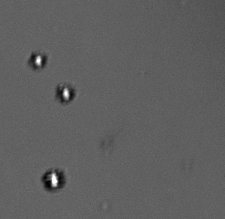Living Cell: (40, 167, 69, 192), (56, 80, 77, 105), (27, 49, 49, 71)
